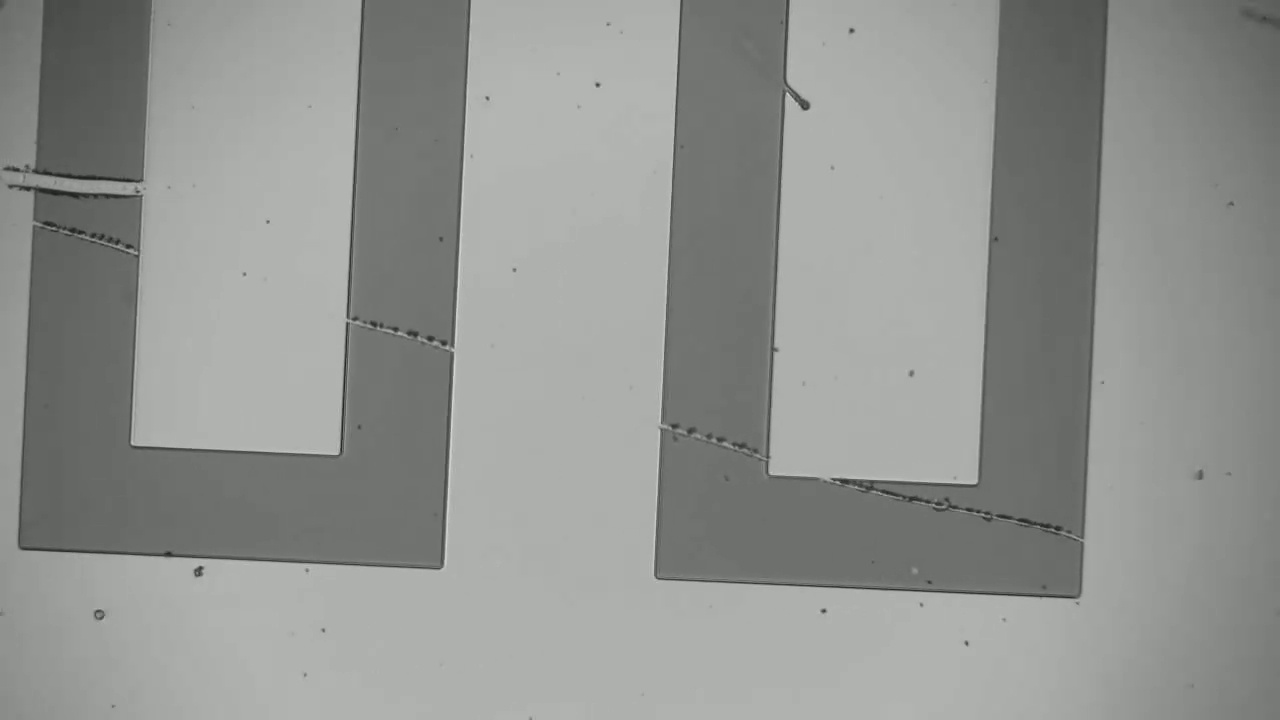Short_circuit: (10, 150, 171, 209)
scratch: (853, 488, 1070, 530), (670, 412, 756, 458), (33, 214, 131, 253), (354, 310, 442, 345)
